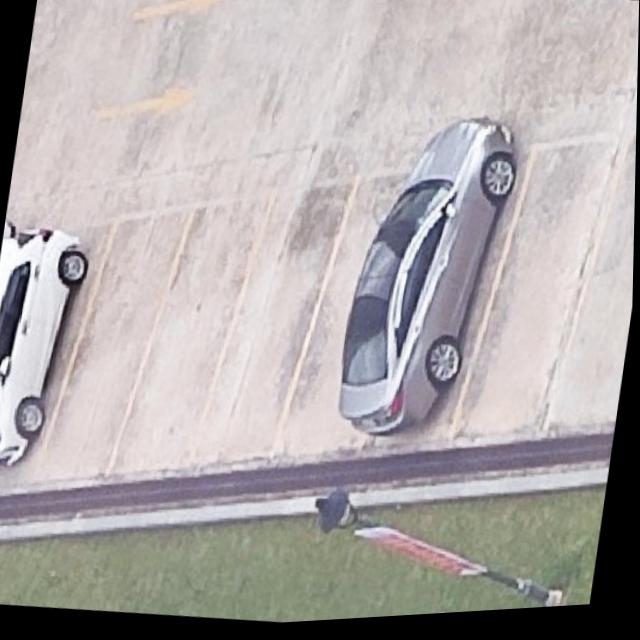car: (340, 126, 516, 439), (0, 221, 87, 464)
freeslot: (447, 130, 635, 451), (23, 196, 208, 501), (184, 170, 367, 473), (102, 185, 283, 483), (266, 162, 433, 465)
